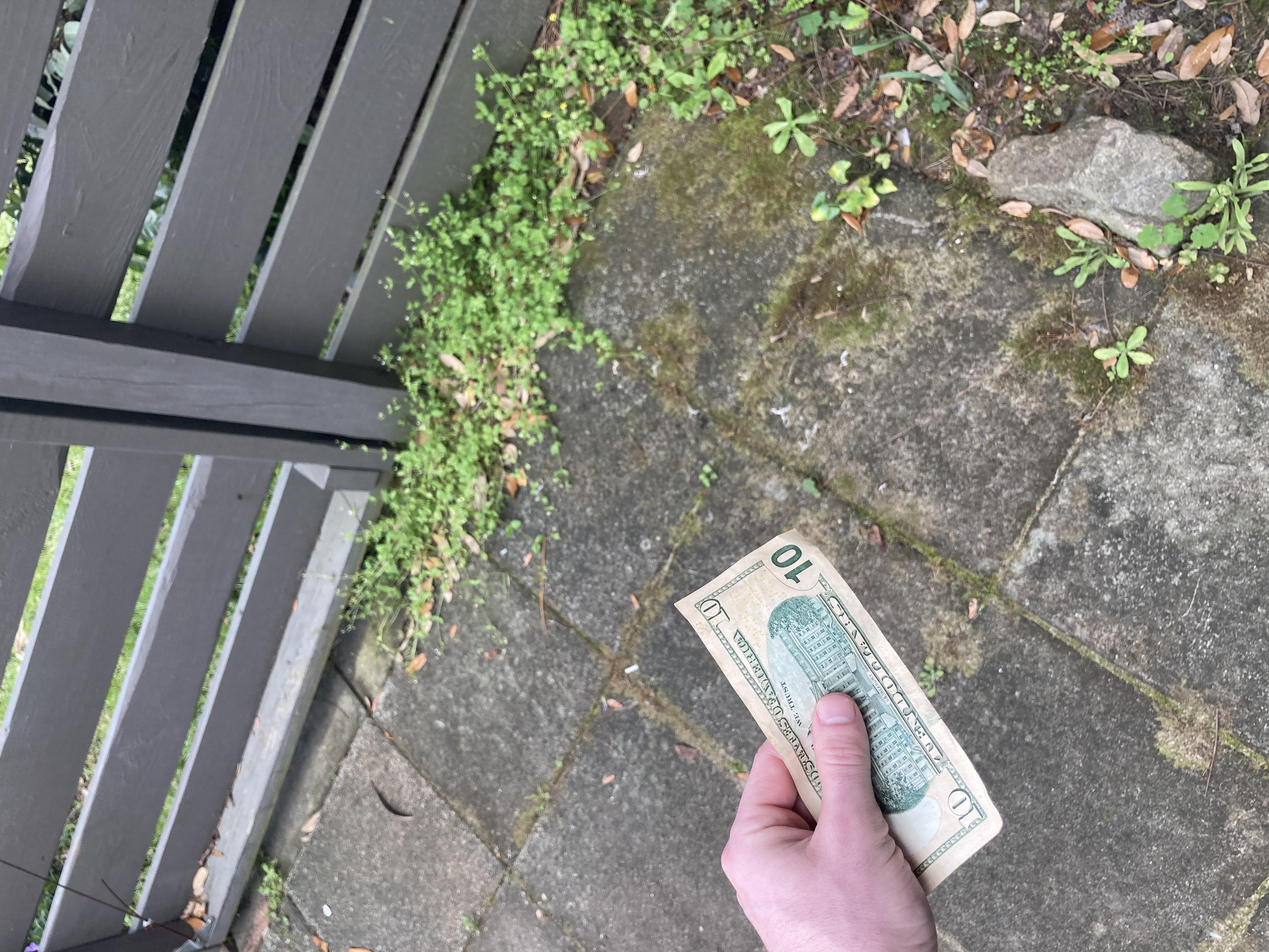ten-back: (35, 505, 576, 759)
